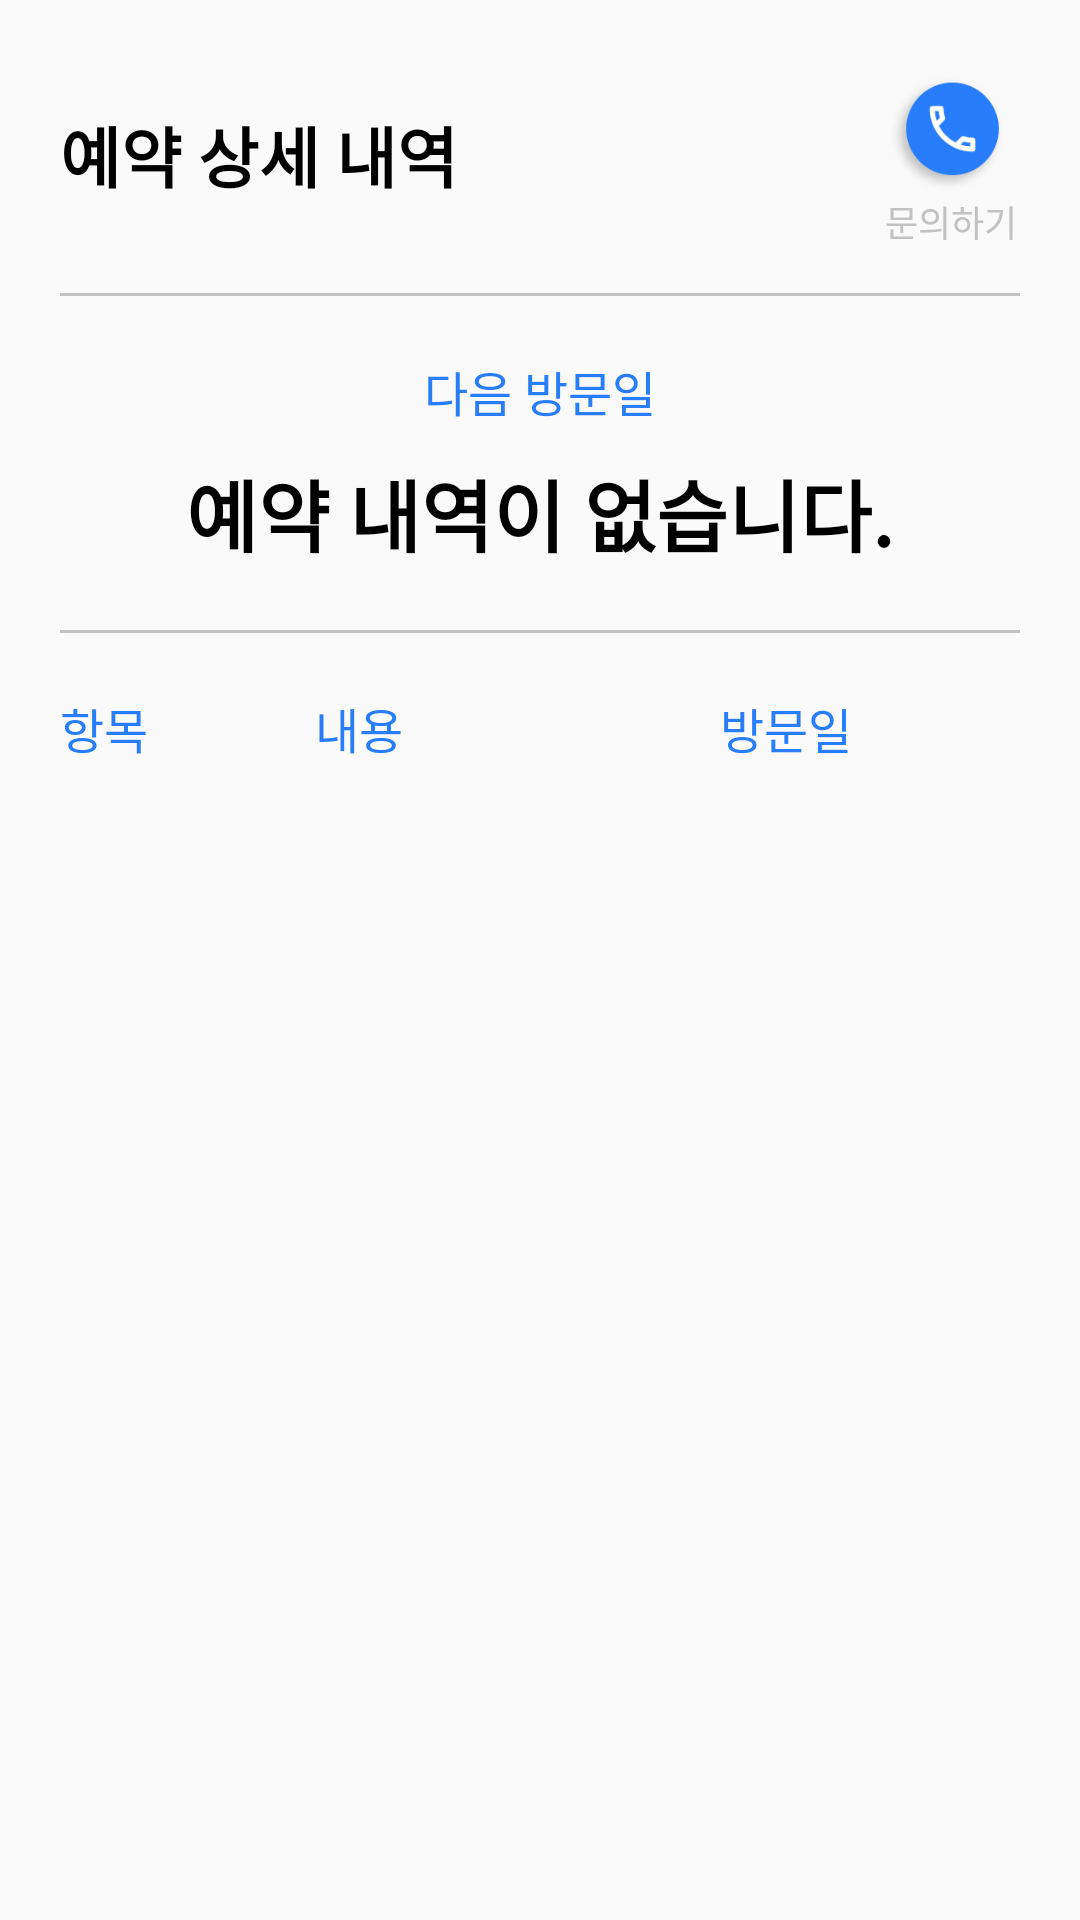

Point at icon controls on the screen. Image size 1080 × 1920, points as (x=x, y=y).
phone: (x=949, y=131)
